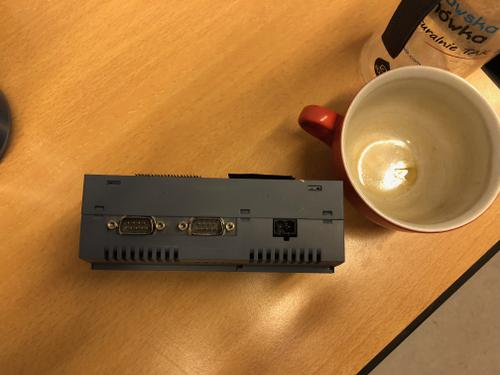device: (78, 174, 346, 274)
